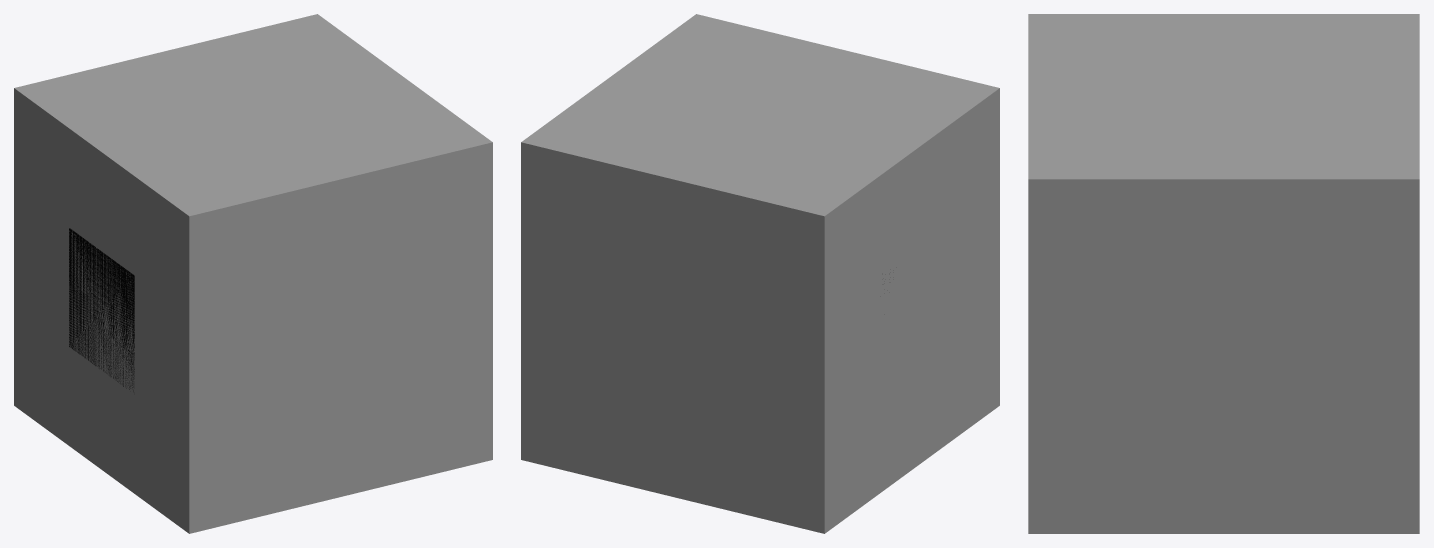
File: thermalsensor.obj
3 views of the same model, side by side, from view 1: azimuth 30°, elevation 25°; view 2: azimuth 150°, elevation 25°; view 3: azimuth 270°, elevation 25° (orthographic). The views are drawn at different scales.
Parts seen in each view (by area): view 1: Minecraft_Block_Cube, Minecraft_2_Edge_Connectivity_Cube.002, main; view 2: Minecraft_Block_Cube, Minecraft_2_Edge_Connectivity_Cube.002; view 3: Minecraft_Block_Cube, Minecraft_2_Edge_Connectivity_Cube.002.
Boxes of the visible parts, x1,y1,x2,y2 form: Minecraft_Block_Cube: [15, 14, 492, 533]; Minecraft_2_Edge_Connectivity_Cube.002: [14, 88, 252, 533]; main: [69, 228, 134, 391]; Minecraft_Block_Cube: [521, 14, 998, 533]; Minecraft_2_Edge_Connectivity_Cube.002: [760, 88, 999, 533]; Minecraft_Block_Cube: [1028, 14, 1419, 533]; Minecraft_2_Edge_Connectivity_Cube.002: [1029, 14, 1418, 96].
Size of the model in its own units: 1 by 1 by 1.
Materials: 2 (1 with a texture image).
